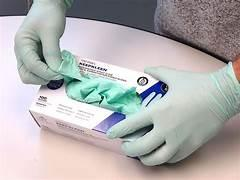Glove: (107, 63, 239, 165), (15, 0, 70, 84)
